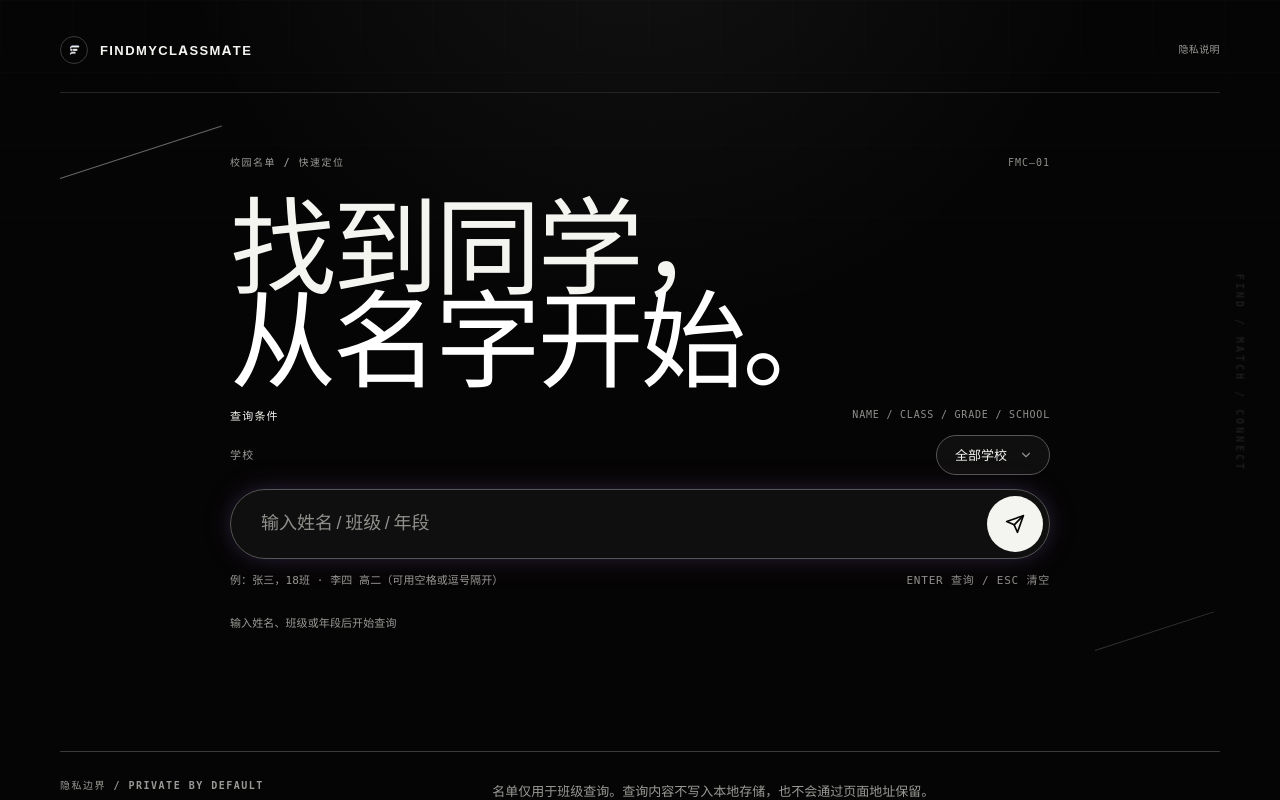
App 学校选择器 › schoolsApi 失败时选择器仍渲染（全校），全站不崩
The width and height of the screenshot is (1280, 800).
// 打开面板只有「全部学校」一项
Click the button "全部学校" at (993, 455), box 936,435 -> 1050,475
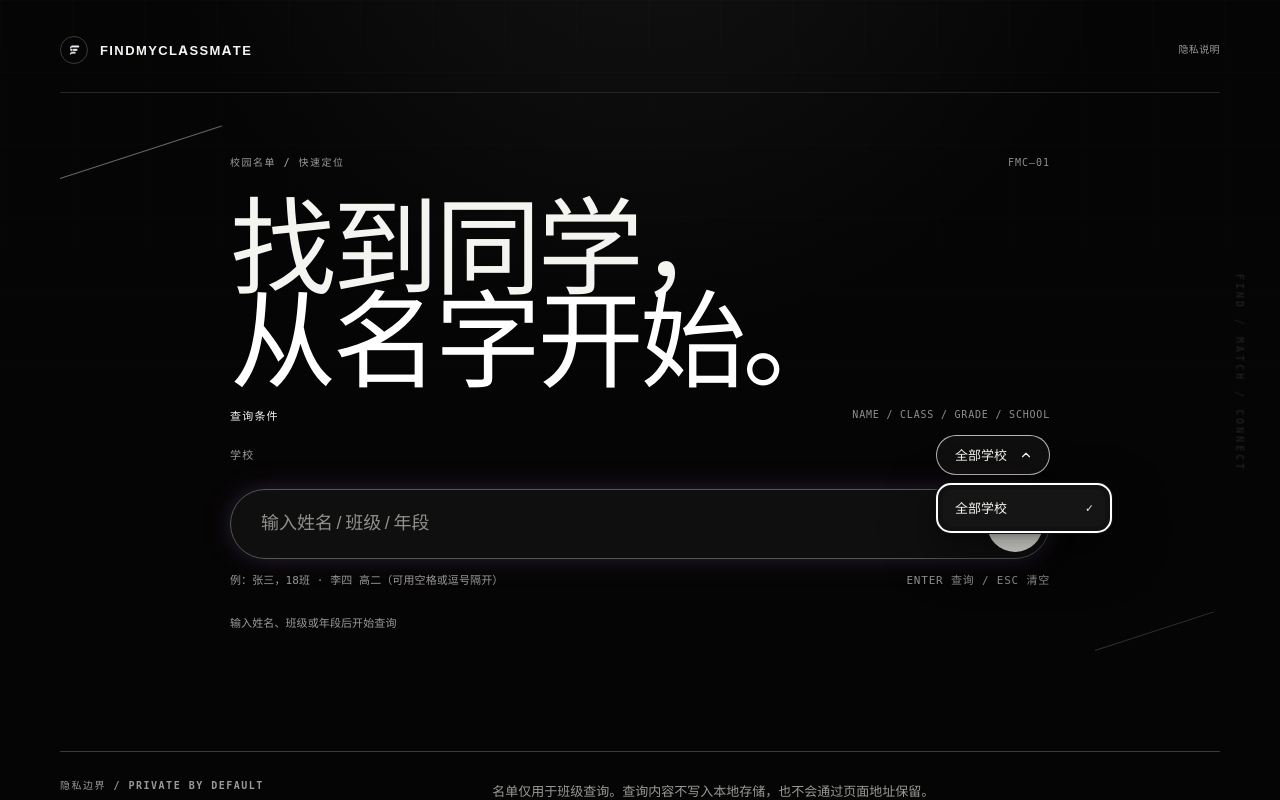
Now the number of options is 1, box 943,490 -> 1105,526
